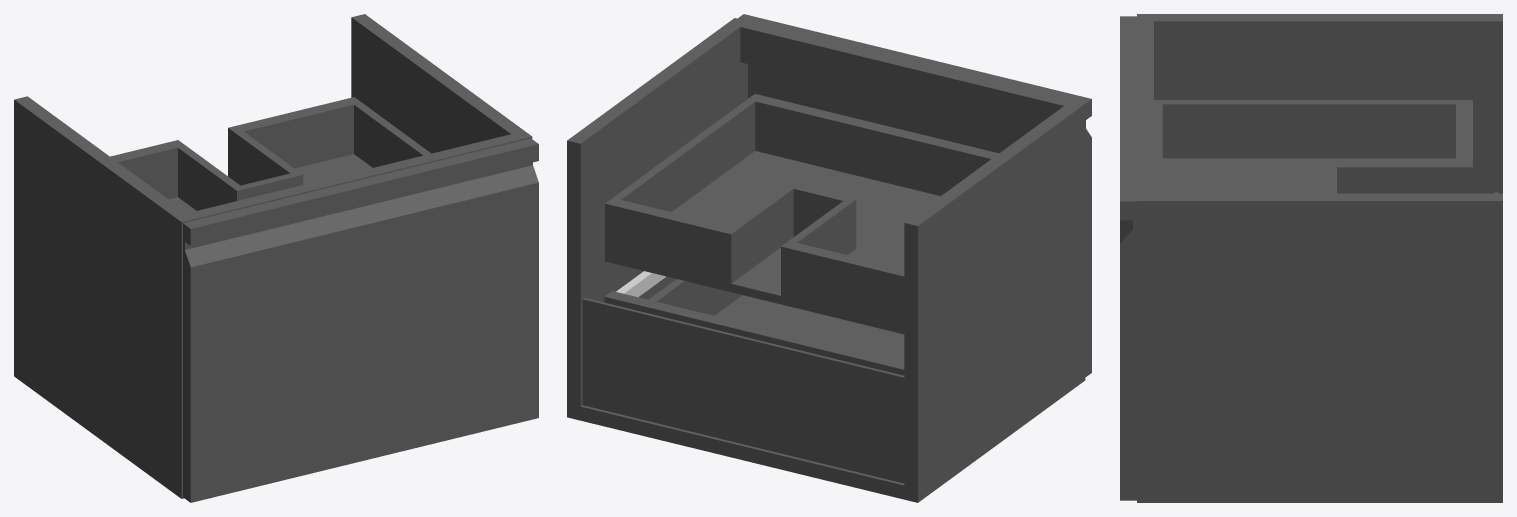
Rendered from AEC_46760.glb.
3 renders of one model, left to right at view 1: azimuth 30°, elevation 25°; view 2: azimuth 150°, elevation 25°; view 3: azimuth 270°, elevation 25°, orthographic. The views are drawn at different scales.
Visible parts, largest first — view 1: 0; view 2: 0; view 3: 0.
Part boxes in pixels (x1,y1,x2,y2): 0: [14, 14, 538, 502]; 0: [567, 14, 1091, 502]; 0: [1120, 14, 1502, 502].
Size of the model in its own units: 0.52 by 0.392 by 0.45.
Materials: 1 (1 with a texture image).
